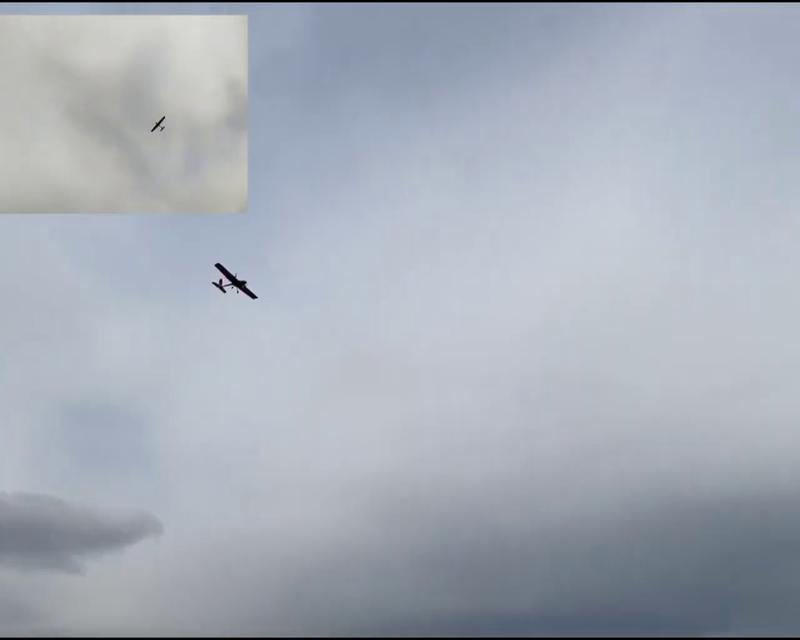UAV: (212, 262, 258, 302), (150, 114, 167, 134)
